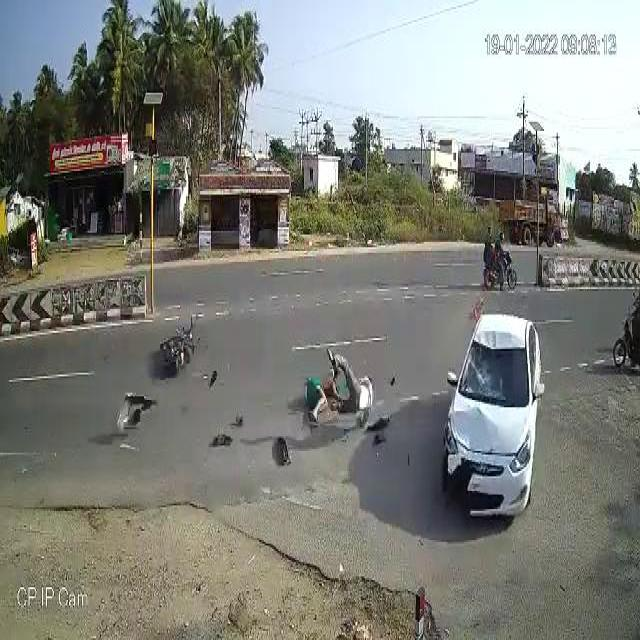accident: (298, 280, 550, 547), (113, 312, 220, 441)
